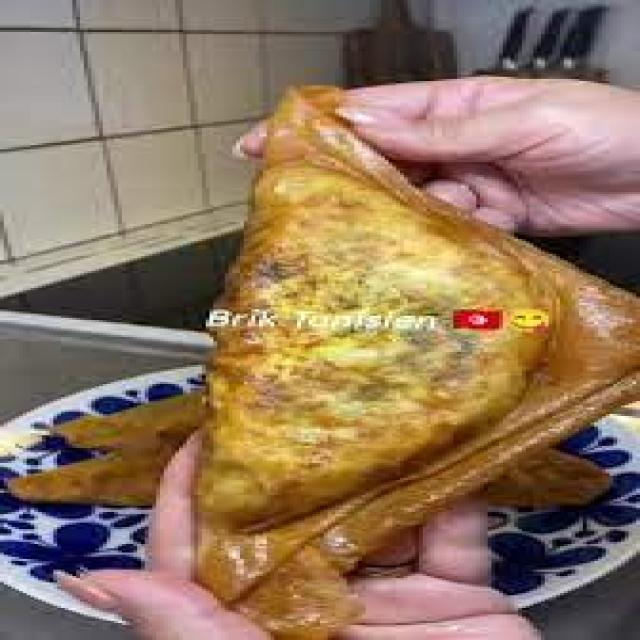brik: (177, 92, 640, 596)
